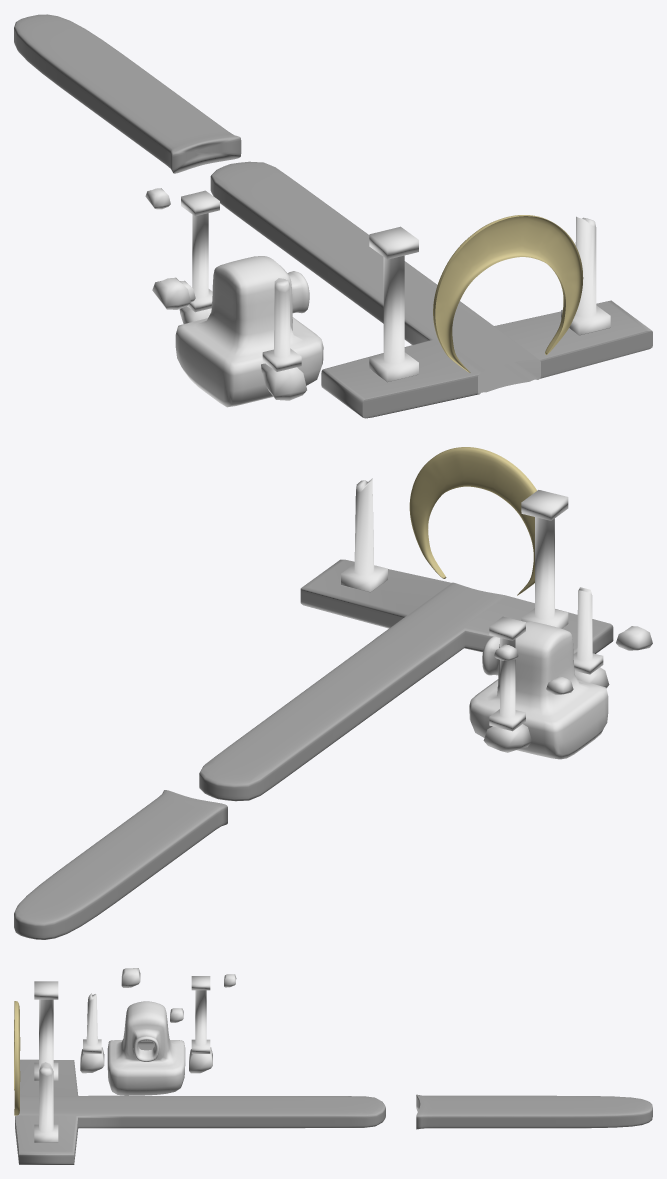
File: CenarioTutorial.fbx
3 views of the same model, one above another, from view 1: azimuth 30°, elevation 25°; view 2: azimuth 150°, elevation 25°; view 3: azimuth 270°, elevation 25° (orthographic). The views are drawn at different scales.
Visible parts, largest first — view 1: BASE, Cube.002, LUA, Cube.003, Cube, Cube.001; view 2: BASE, Cube.002, Cube.003, LUA, Cube, Cube.001; view 3: BASE, Cube.002, Cube.003, Cube, Cube.001, LUA.
Part boxes in pixels (<box>): BASE: <box>14,14,652,418</box>; Cube.002: <box>175,256,323,407</box>; LUA: <box>433,215,583,372</box>; Cube.003: <box>145,188,306,400</box>; Cube: <box>369,226,418,382</box>; Cube.001: <box>561,216,610,335</box>; BASE: <box>14,559,613,939</box>; Cube.002: <box>469,621,608,759</box>; Cube.003: <box>483,587,652,752</box>; LUA: <box>409,447,536,595</box>; Cube: <box>521,490,568,628</box>; Cube.001: <box>341,478,387,592</box>; BASE: <box>15,1059,652,1164</box>; Cube.002: <box>107,1001,185,1095</box>; Cube.003: <box>80,968,236,1073</box>; Cube: <box>34,981,58,1080</box>; Cube.001: <box>34,1062,58,1142</box>; LUA: <box>14,1001,20,1115</box>.
Size of the model in its own units: 741 by 342 by 1508.
